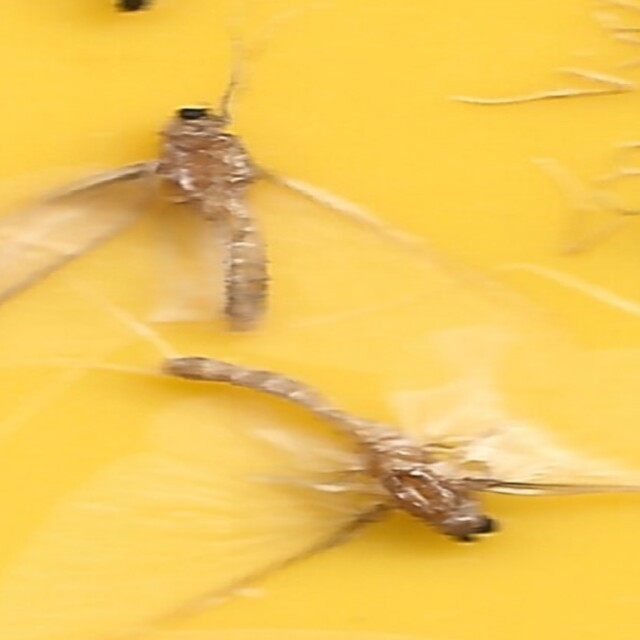Ephemeroptera: (163, 351, 487, 546), (153, 94, 273, 333)
